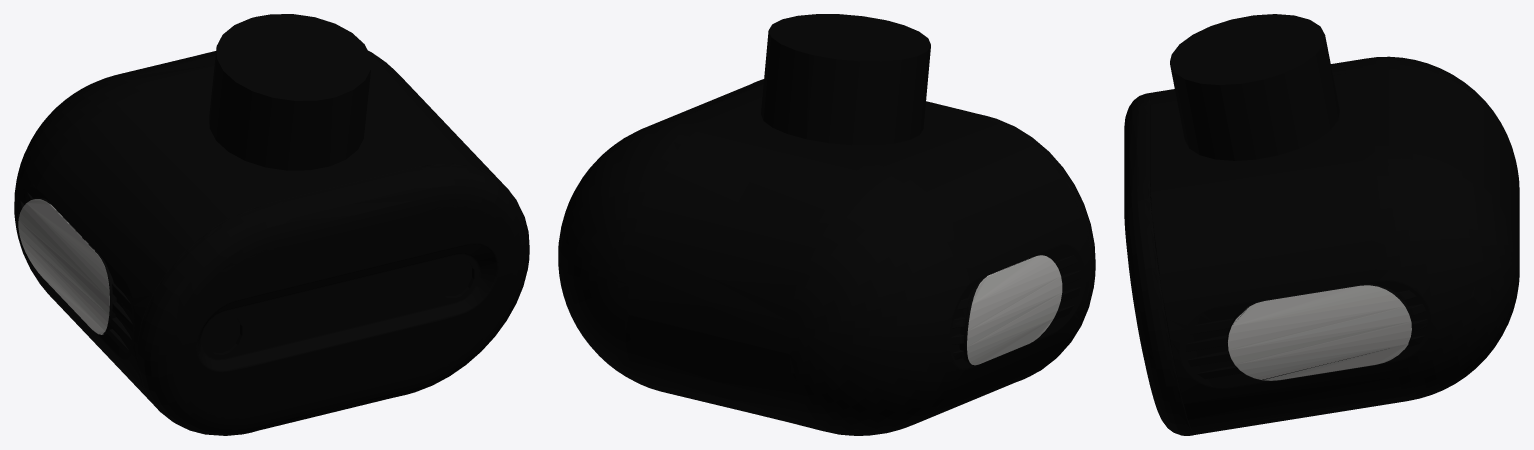
The model's file is zed_link.obj.
3 renders of one model, left to right at view 1: azimuth 30°, elevation 25°; view 2: azimuth 150°, elevation 25°; view 3: azimuth 270°, elevation 25°, orthographic. The views are drawn at different scales.
Parts seen in each view (by area): view 1: zed_link; view 2: zed_link; view 3: zed_link.
Boxes of the visible parts, x1=… form: zed_link: x1=14, y1=14, x2=529, y2=435; zed_link: x1=558, y1=14, x2=1095, y2=435; zed_link: x1=1124, y1=14, x2=1519, y2=435.
Bounding box in the file's own units: 0.201 × 0.1707 × 0.1757.
Materials: 1 (1 with a texture image).
